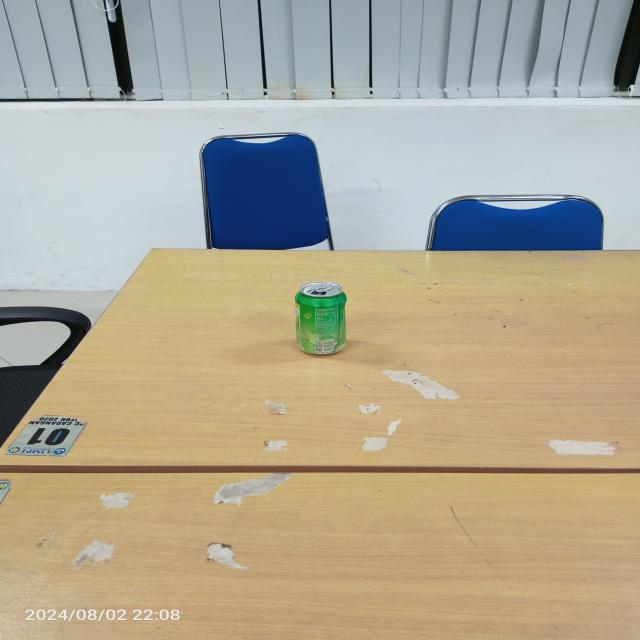ademsarikaleng: (293, 280, 348, 356)
